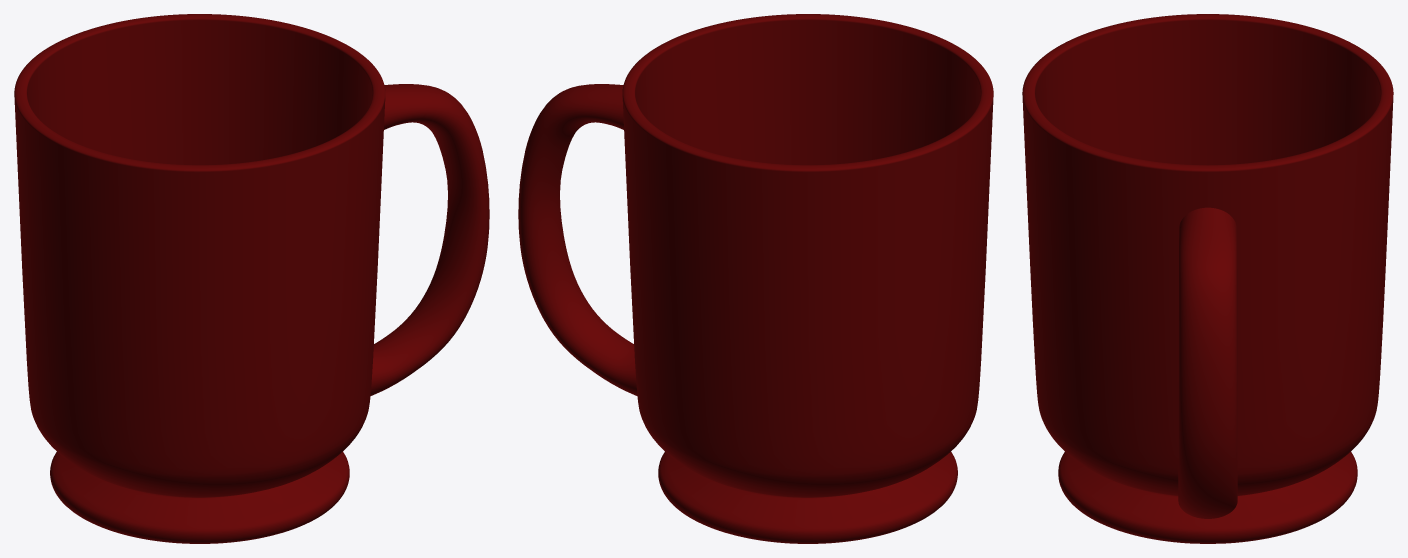
3 renders of one model, left to right at view 1: azimuth 30°, elevation 25°; view 2: azimuth 150°, elevation 25°; view 3: azimuth 270°, elevation 25°, orthographic.
Bounding box in the file's own units: 0.0968 × 0.0825 × 0.07.
